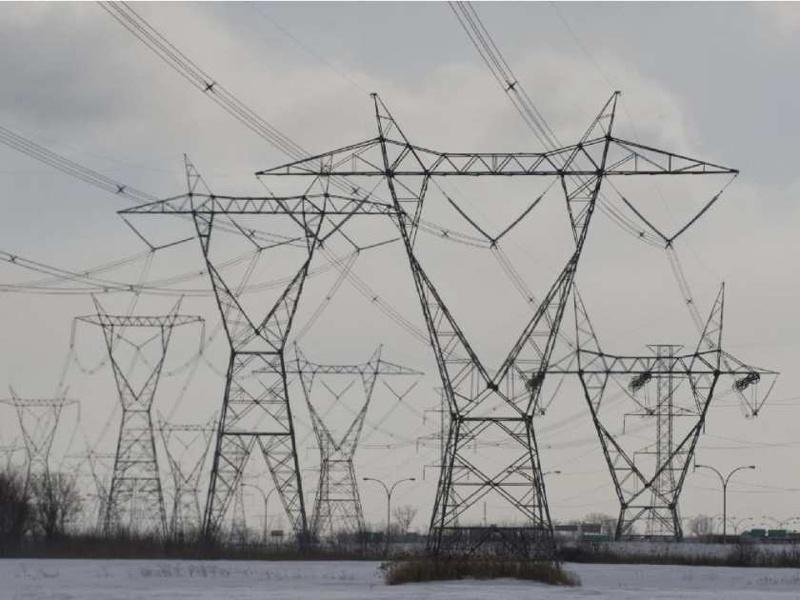power_tower: (258, 94, 626, 554), (110, 143, 401, 543), (527, 282, 751, 536), (250, 342, 399, 536), (75, 306, 187, 538), (3, 383, 88, 539), (139, 407, 226, 534)
